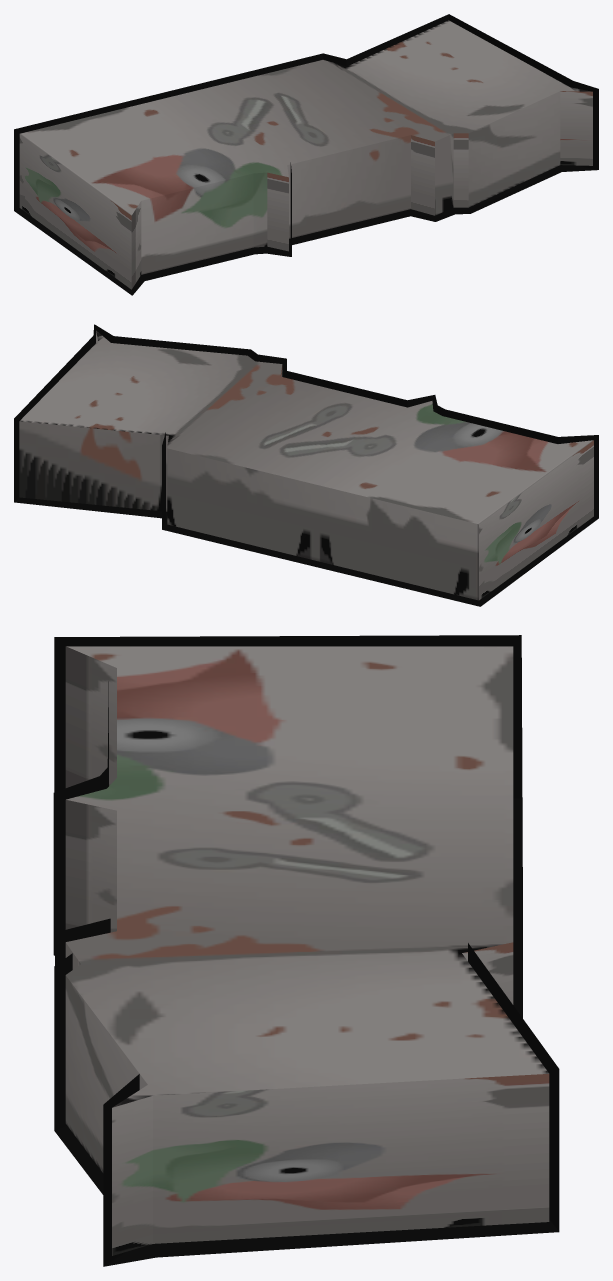
File: Building_AncientTableTailorHand_Things_Building_Ancient_Workbenches_AncientTableTailorHand.glb
3 views of the same model, one above another, from view 1: azimuth 30°, elevation 25°; view 2: azimuth 150°, elevation 25°; view 3: azimuth 270°, elevation 25° (orthographic). The views are drawn at different scales.
Visible parts, largest first — view 1: Body, Outline; view 2: Body, Outline; view 3: Body, Outline.
Part boxes in pixels (box(x1,y1,x2,y2)): Body: box(19, 20, 592, 289); Outline: box(14, 14, 598, 295); Body: box(19, 330, 593, 600); Outline: box(14, 324, 598, 606); Body: box(65, 646, 549, 1255); Outline: box(53, 635, 559, 1266).
Size of the model in its own units: 3.01 by 0.5123 by 1.37.
2 materials, 1 textured.
